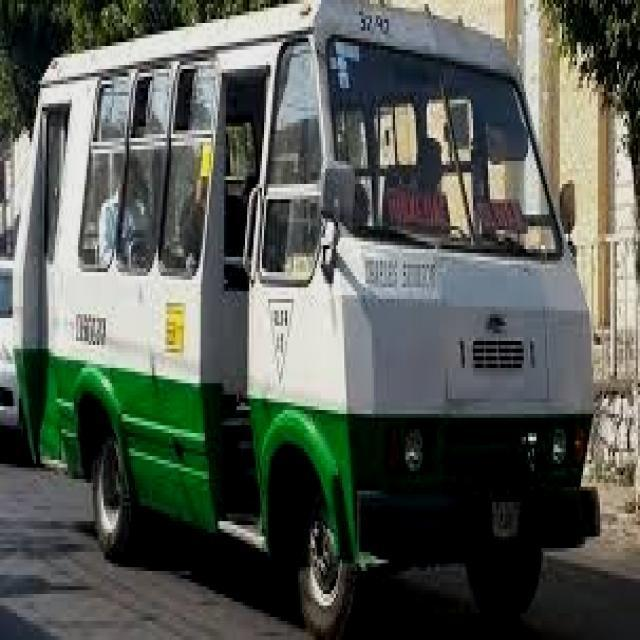Bus: (3, 0, 616, 620)
